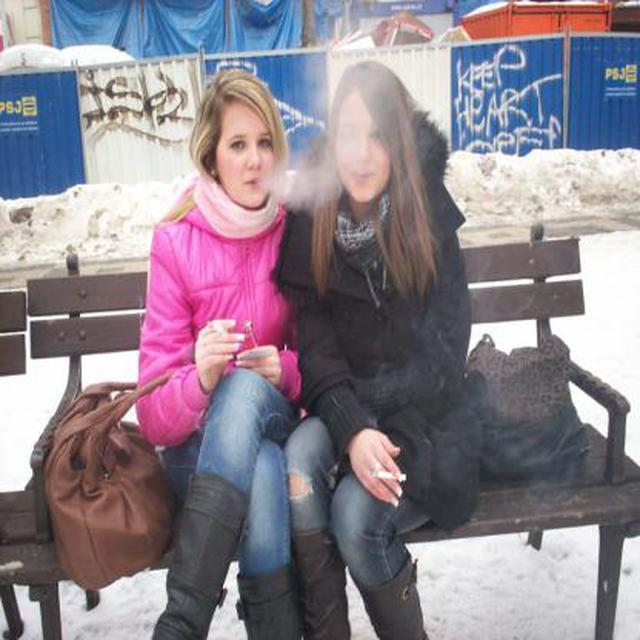smoking: (372, 468, 408, 484)
